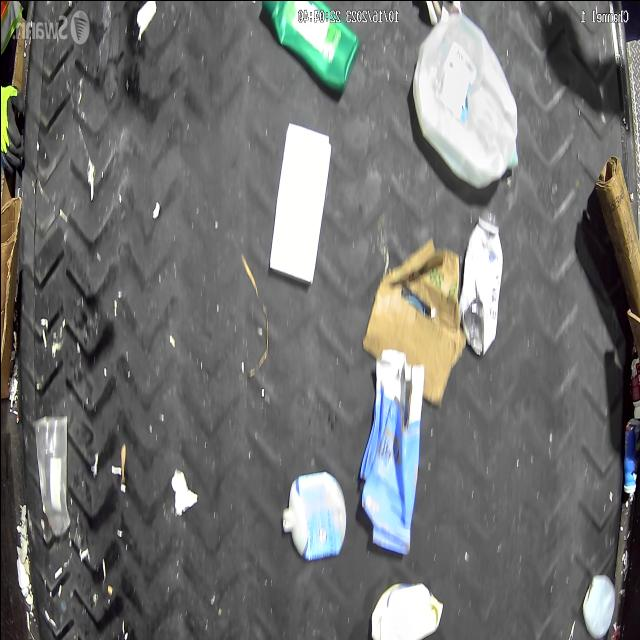milk_jug: (410, 0, 519, 190)
plastic_bottle: (452, 208, 504, 354)
